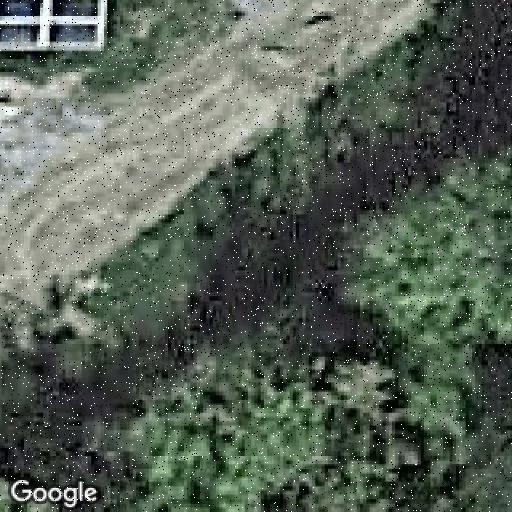solar-panel: (2, 0, 104, 48)
